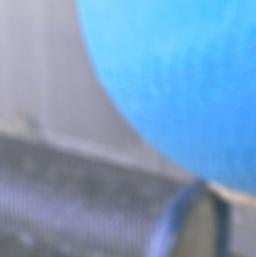algae: (71, 0, 256, 199)
